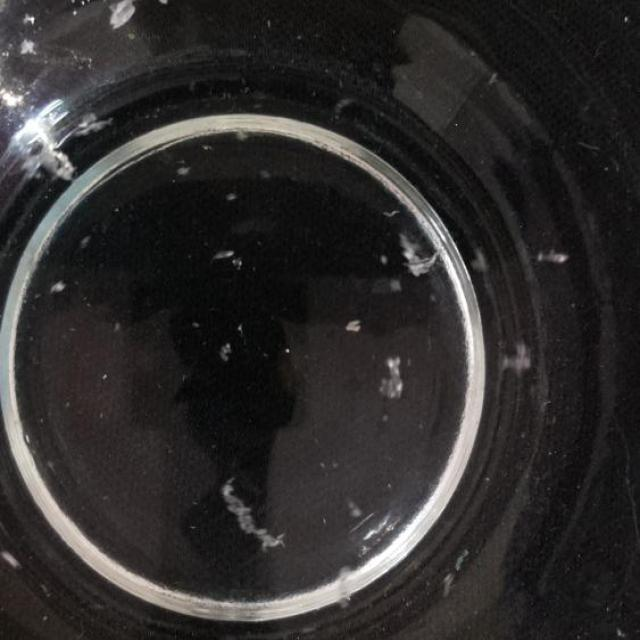fiber: (221, 478, 286, 554), (20, 118, 73, 195), (396, 232, 442, 280), (439, 547, 470, 599), (496, 332, 532, 374), (379, 351, 406, 397), (105, 0, 142, 33), (337, 562, 358, 609), (70, 113, 111, 137), (536, 245, 570, 269), (470, 245, 491, 276), (1, 548, 20, 577), (218, 341, 234, 368), (344, 498, 366, 517), (19, 37, 38, 57), (49, 277, 68, 295), (344, 317, 363, 334), (177, 162, 192, 182), (79, 230, 92, 252), (215, 247, 235, 260), (234, 131, 252, 144), (20, 12, 38, 24), (384, 208, 404, 218), (283, 343, 293, 362), (379, 250, 389, 268), (102, 368, 110, 388), (616, 624, 626, 640), (111, 320, 122, 334), (227, 188, 236, 205), (622, 12, 630, 28), (63, 127, 76, 129)
